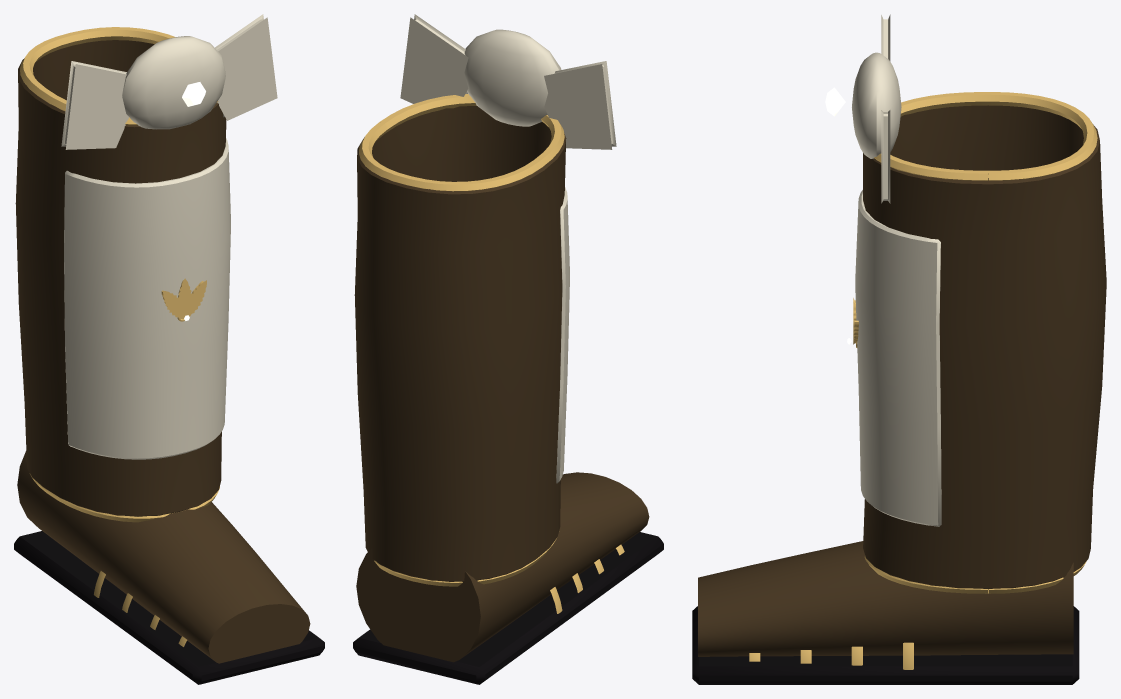
Rendered from asc_zenith_archer_boots.glb.
3 views of the same model, side by side, from view 1: azimuth 30°, elevation 25°; view 2: azimuth 150°, elevation 25°; view 3: azimuth 270°, elevation 25° (orthographic). The views are drawn at different scales.
Visible parts, largest first — view 1: asc_zenith_archer_boots, AT_foot_L; view 2: asc_zenith_archer_boots, AT_foot_L; view 3: asc_zenith_archer_boots, AT_foot_L.
Boxes of the visible parts, x1,y1,x2,y2 form: asc_zenith_archer_boots: (15, 14, 277, 522); AT_foot_L: (14, 451, 324, 684); asc_zenith_archer_boots: (354, 14, 616, 586); AT_foot_L: (353, 472, 663, 684); asc_zenith_archer_boots: (825, 14, 1106, 593); AT_foot_L: (692, 541, 1079, 684).
Bounding box in the file's own units: 0.2244 × 0.5768 × 0.3641.
